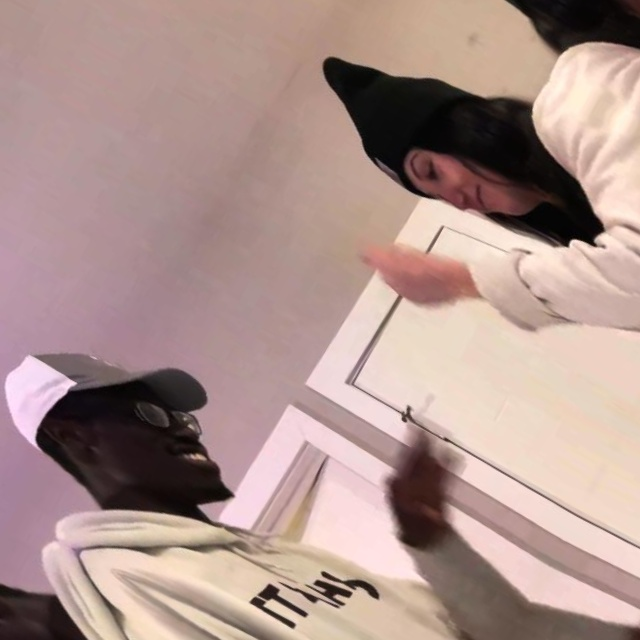Paper: (368, 416, 489, 543)
Rock: (352, 220, 476, 323)
